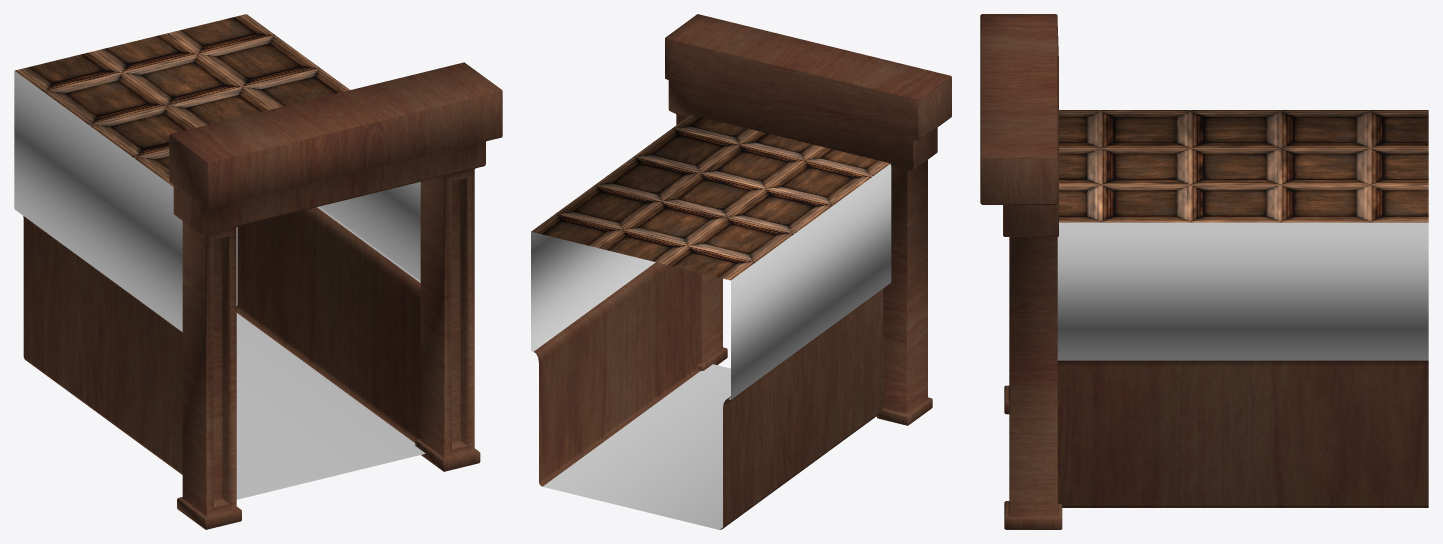
File: Corridor.fbx
The picture shows the model from 3 angles, left to right: view 1: azimuth 30°, elevation 25°; view 2: azimuth 150°, elevation 25°; view 3: azimuth 270°, elevation 25°; orthographic projection. The views are drawn at different scales.
Visible parts, largest first — view 1: LastCorridor, DoorwayContract; view 2: LastCorridor, DoorwayContract; view 3: LastCorridor, DoorwayContract.
Boxes of the visible parts, bbox=[...] form: LastCorridor: bbox=[14, 14, 425, 499]; DoorwayContract: bbox=[169, 62, 502, 529]; LastCorridor: bbox=[531, 115, 891, 529]; DoorwayContract: bbox=[665, 14, 951, 425]; LastCorridor: bbox=[1057, 110, 1428, 507]; DoorwayContract: bbox=[980, 14, 1062, 529].
Size of the model in its own units: 2.59 by 3.17 by 3.41.
